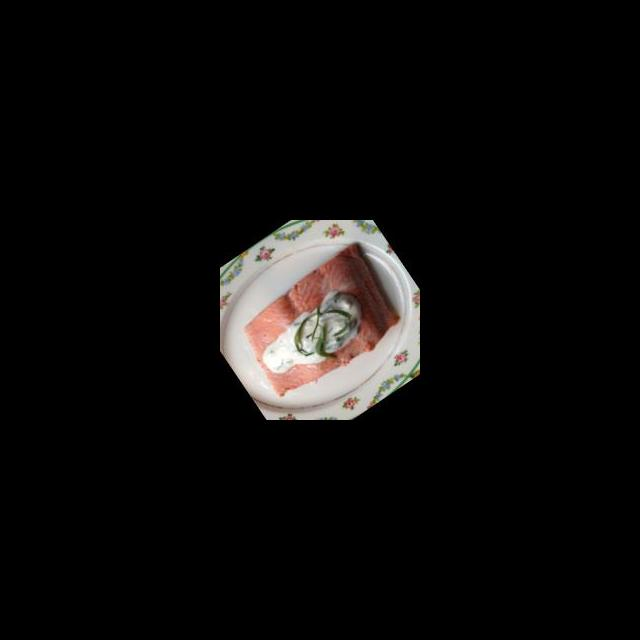ca hoi: (227, 235, 416, 410)
